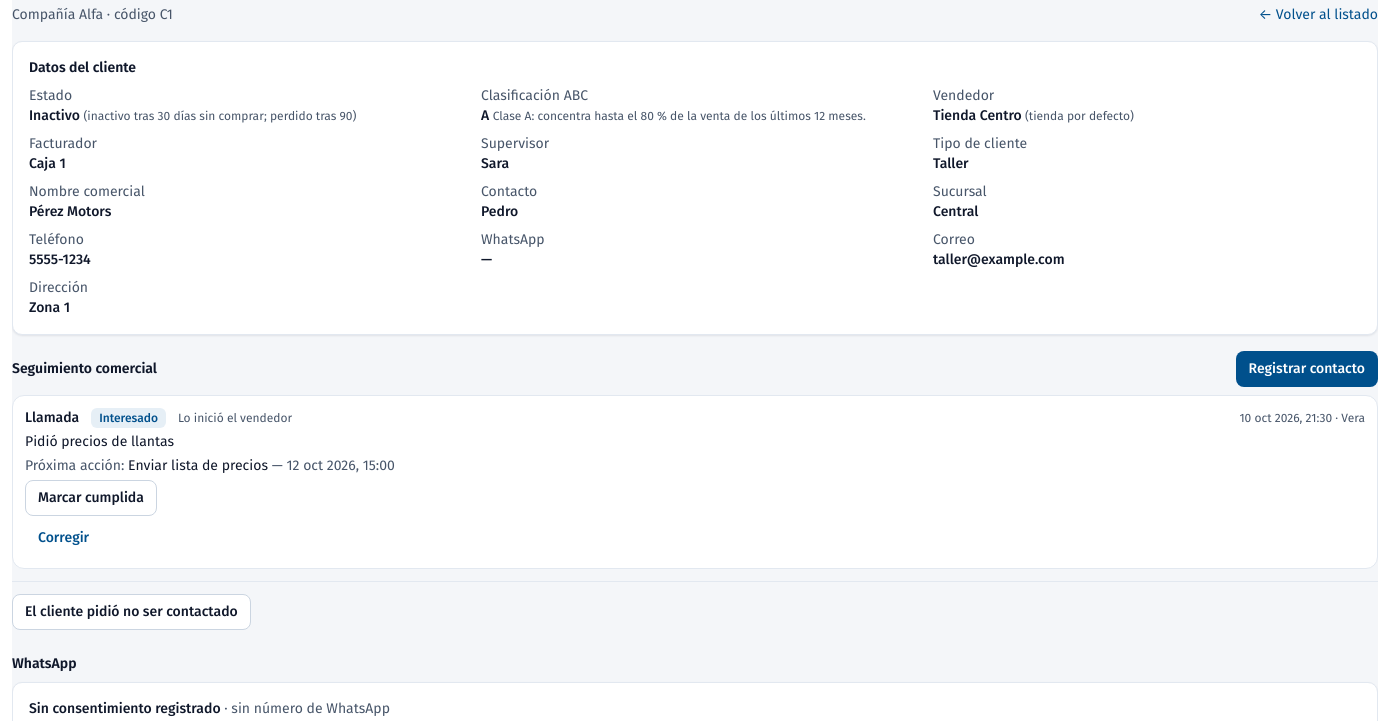
seguimiento comercial › registra un contacto con su próxima acción
Click the button "Registrar contacto": click(1307, 369) left=1236, top=351, right=1378, bottom=387
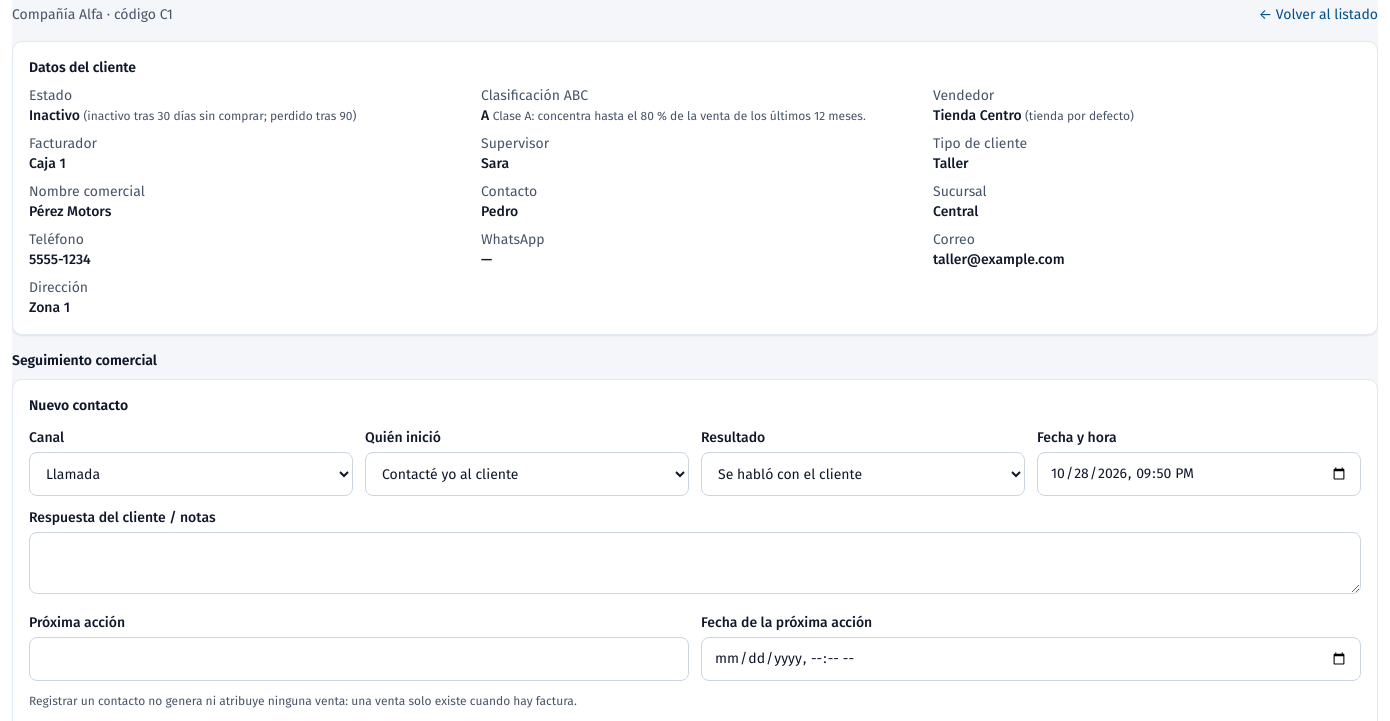
Select "Visita" in the dropdown labelled "Canal": (191, 474) left=29, top=452, right=353, bottom=496
Select "Pidió cotización" in the dropdown labelled "Resultado": (863, 474) left=701, top=452, right=1025, bottom=496
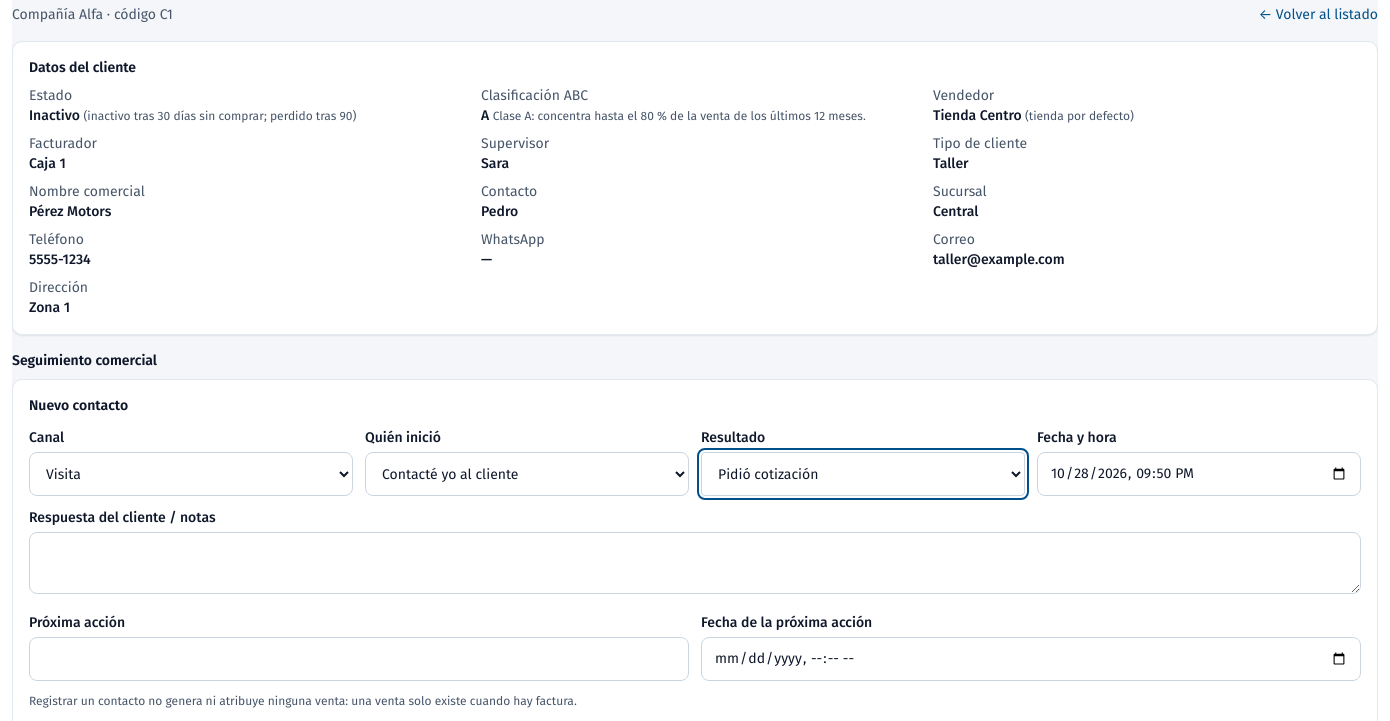
In the text box labelled "Respuesta del cliente / notas": (695, 563) left=29, top=532, right=1361, bottom=594, type "Quiere cotizar 4 llantas"
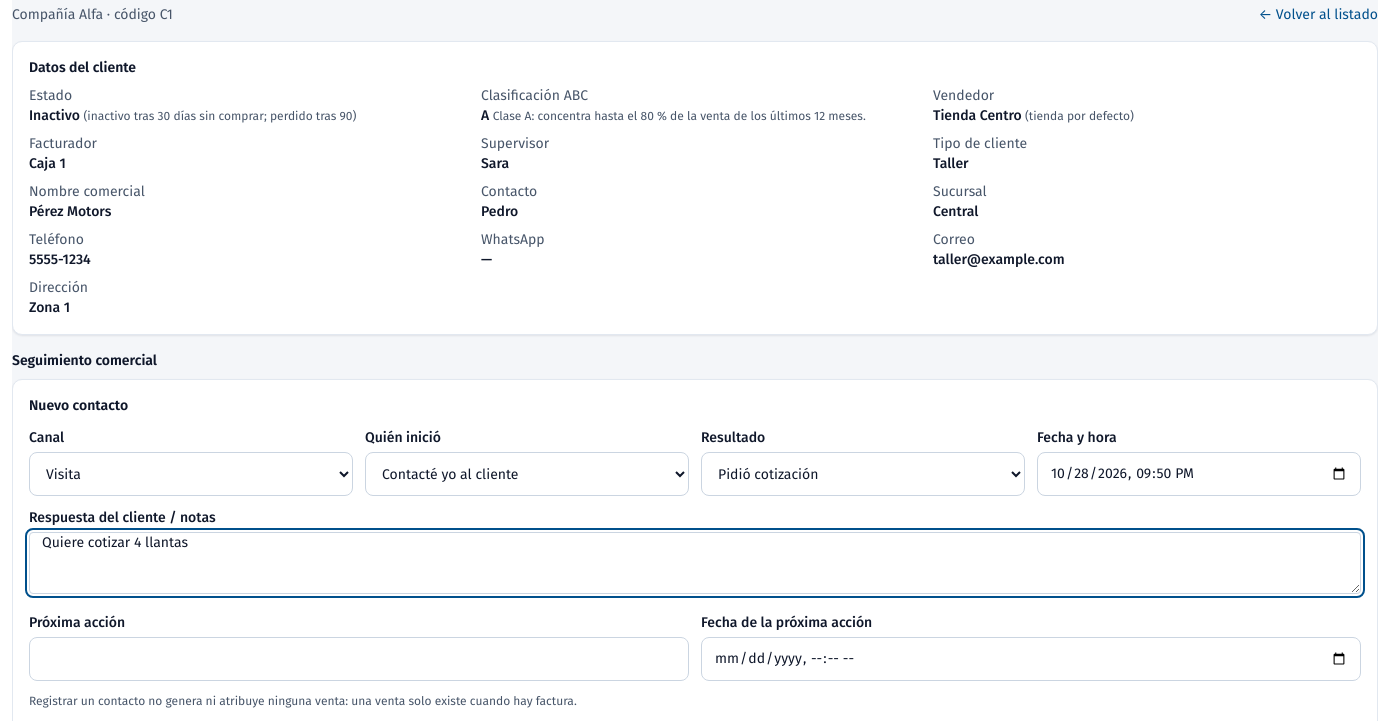
In the field labelled "Próxima acción": (359, 658) left=29, top=636, right=689, bottom=680, type "Preparar cotización"
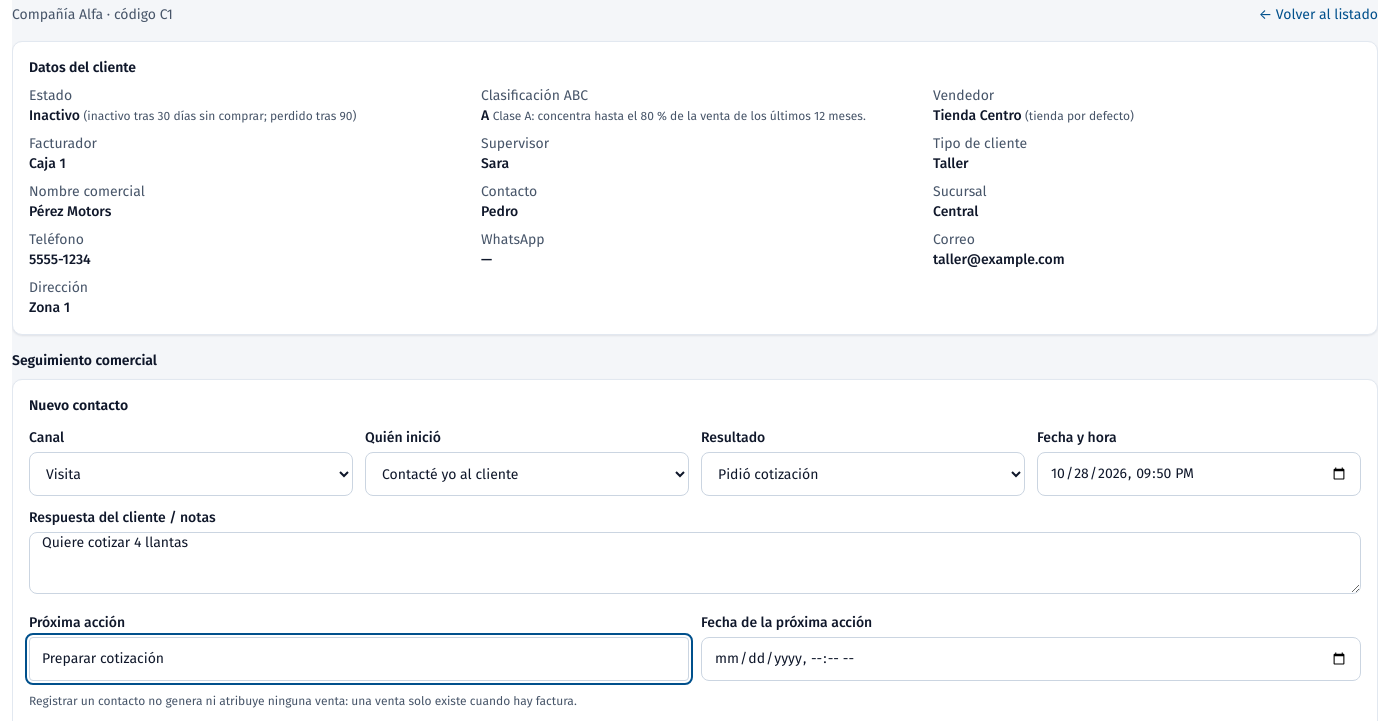
In the field labelled "Fecha de la próxima acción": (1031, 658) left=701, top=636, right=1361, bottom=680, type "2026-10-20T09:00"
(page scrolled)
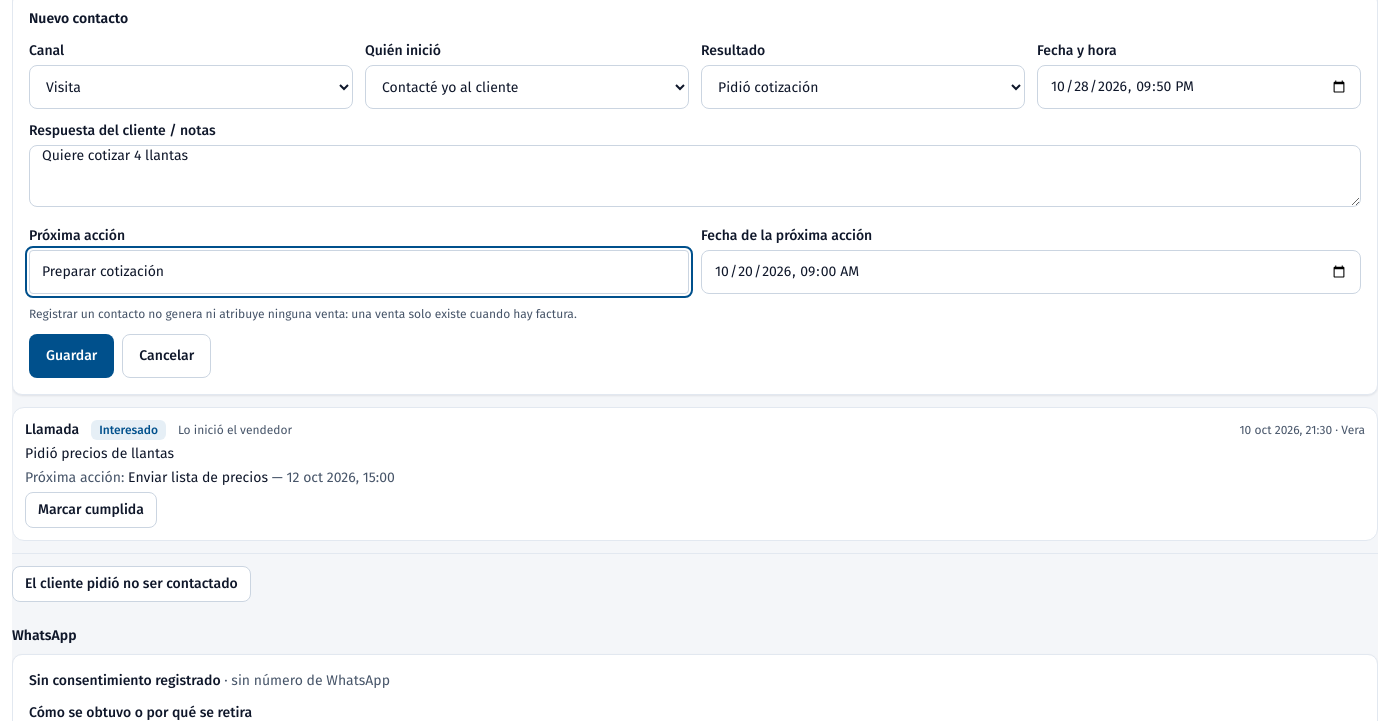
Click the button "Guardar": click(72, 356) left=29, top=334, right=114, bottom=378
(page scrolled)
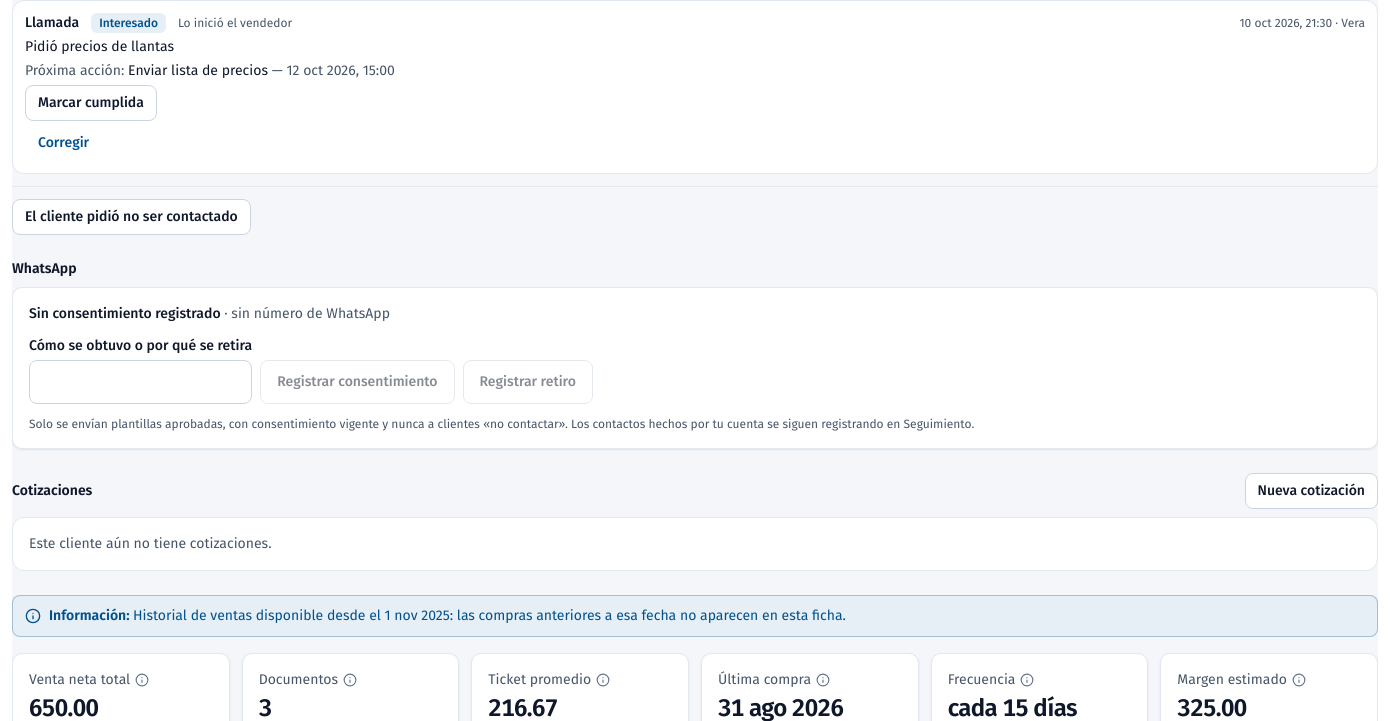
Result: the button "Guardar" is gone
